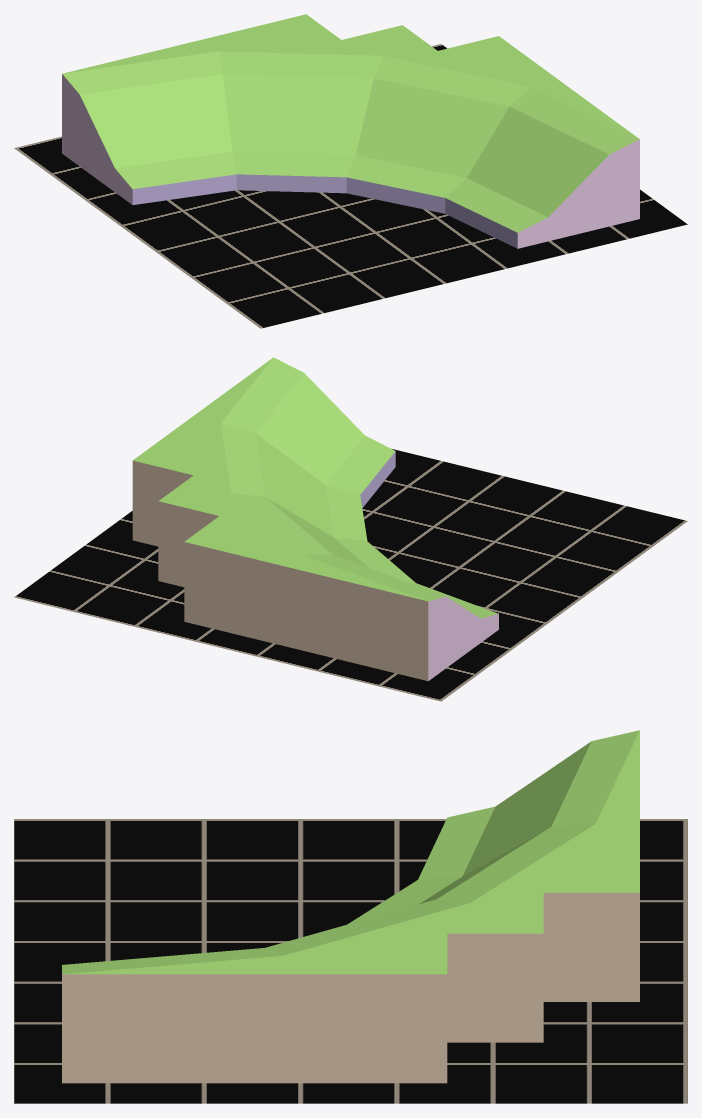
The model's file is Grass_Hill_Sharp_Curve_Inner_6x6.glb.
3 renders of one model, top to bottom at view 1: azimuth 30°, elevation 25°; view 2: azimuth 150°, elevation 25°; view 3: azimuth 270°, elevation 25°, orthographic. The views are drawn at different scales.
Visible parts, largest first — view 1: Grass_Hill_Sharp_Curve_Inner_6x6, Floor; view 2: Grass_Hill_Sharp_Curve_Inner_6x6, Floor; view 3: Grass_Hill_Sharp_Curve_Inner_6x6, Floor.
Boxes of the visible parts, left/top/right/bottom form: Grass_Hill_Sharp_Curve_Inner_6x6: left=62, top=14, right=639, bottom=248; Floor: left=14, top=44, right=687, bottom=328; Grass_Hill_Sharp_Curve_Inner_6x6: left=132, top=357, right=498, bottom=681; Floor: left=14, top=448, right=687, bottom=701; Grass_Hill_Sharp_Curve_Inner_6x6: left=62, top=730, right=639, bottom=1083; Floor: left=14, top=819, right=687, bottom=1103.
Bounding box in the file's own units: 700 × 125 × 700.
6 materials, 1 textured.
